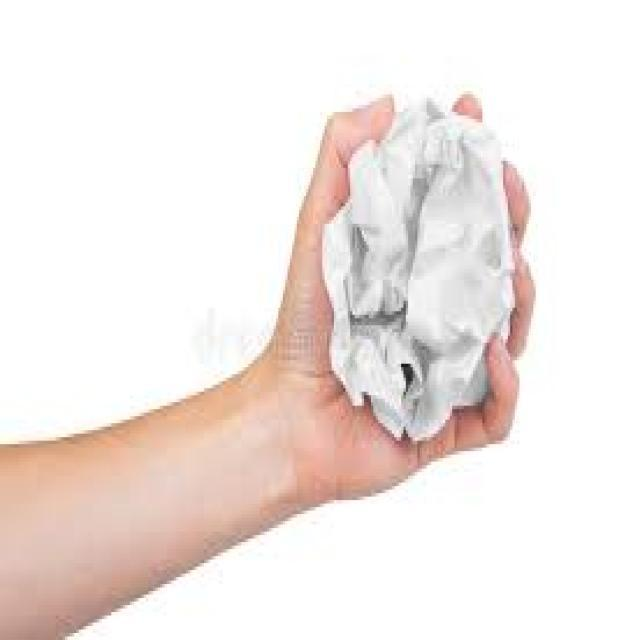Paper: (322, 101, 517, 444)
